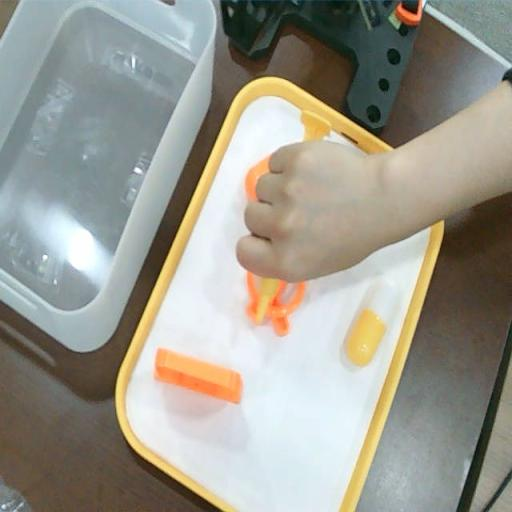hospital: (234, 134, 390, 280)
